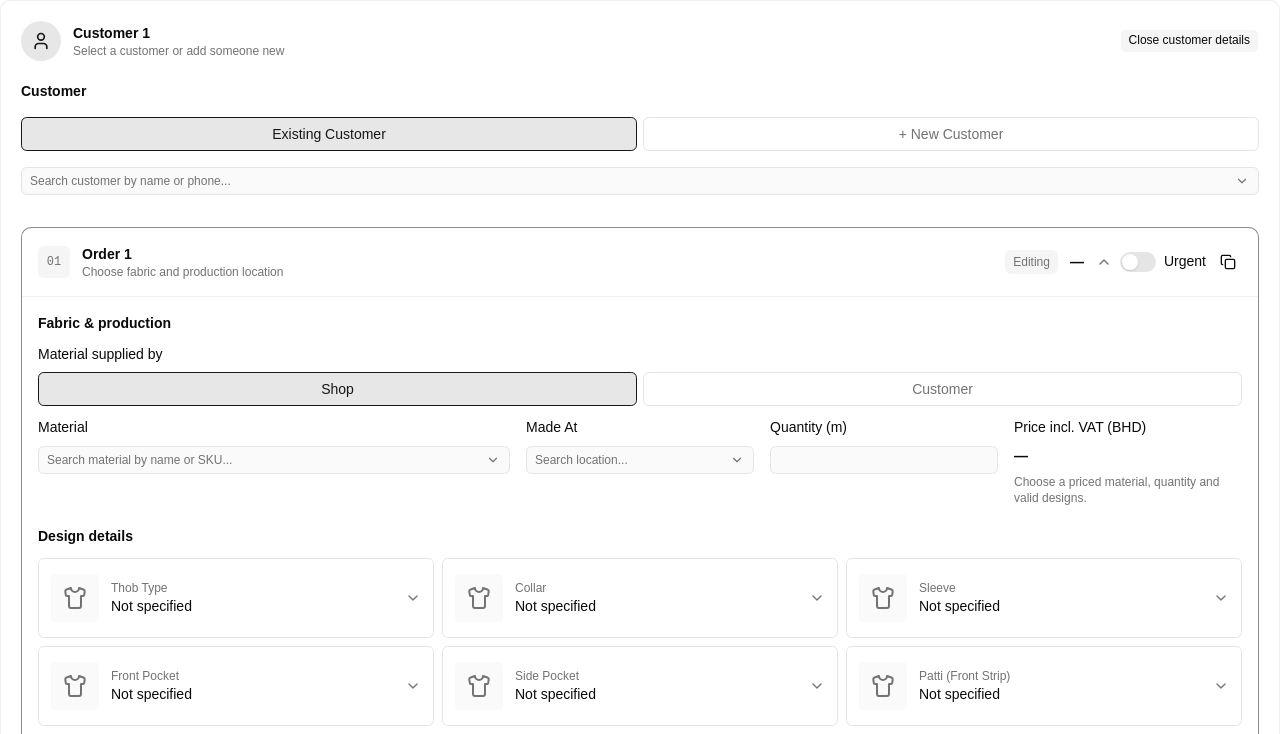
it: CustomerBlock › loads the selected existing customer's current measurement snapshot
The image size is (1280, 734).
Press the mouse on the dropdown with placeholder "Search customer by name or phone...": (626, 181) [22, 167, 1230, 195]
Press the mouse on the dropdown with placeholder "Search customer by name or phone...": (626, 181) [22, 167, 1230, 195]
Click the dropdown with placeholder "Search customer by name or phone...": (626, 181) [22, 167, 1230, 195]
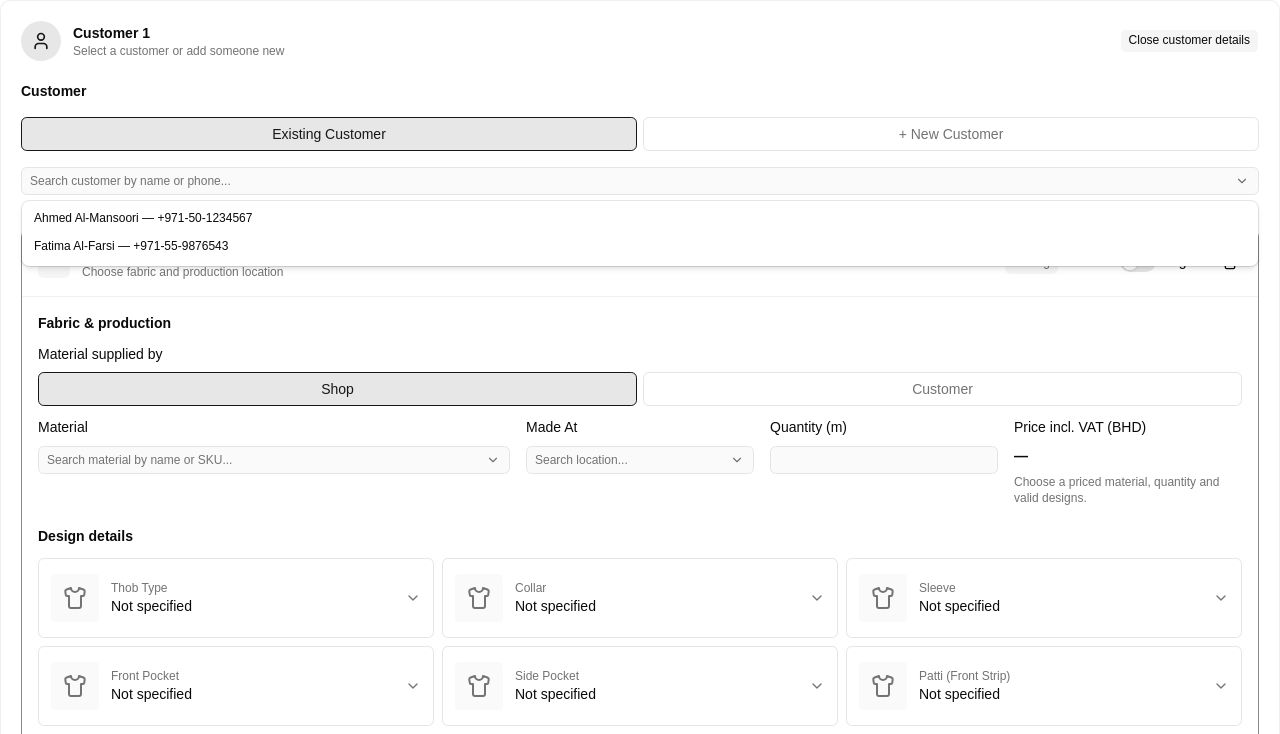
Click the option "Ahmed Al-Mansoori — +971-50-1234567": (143, 218) [34, 211, 252, 225]
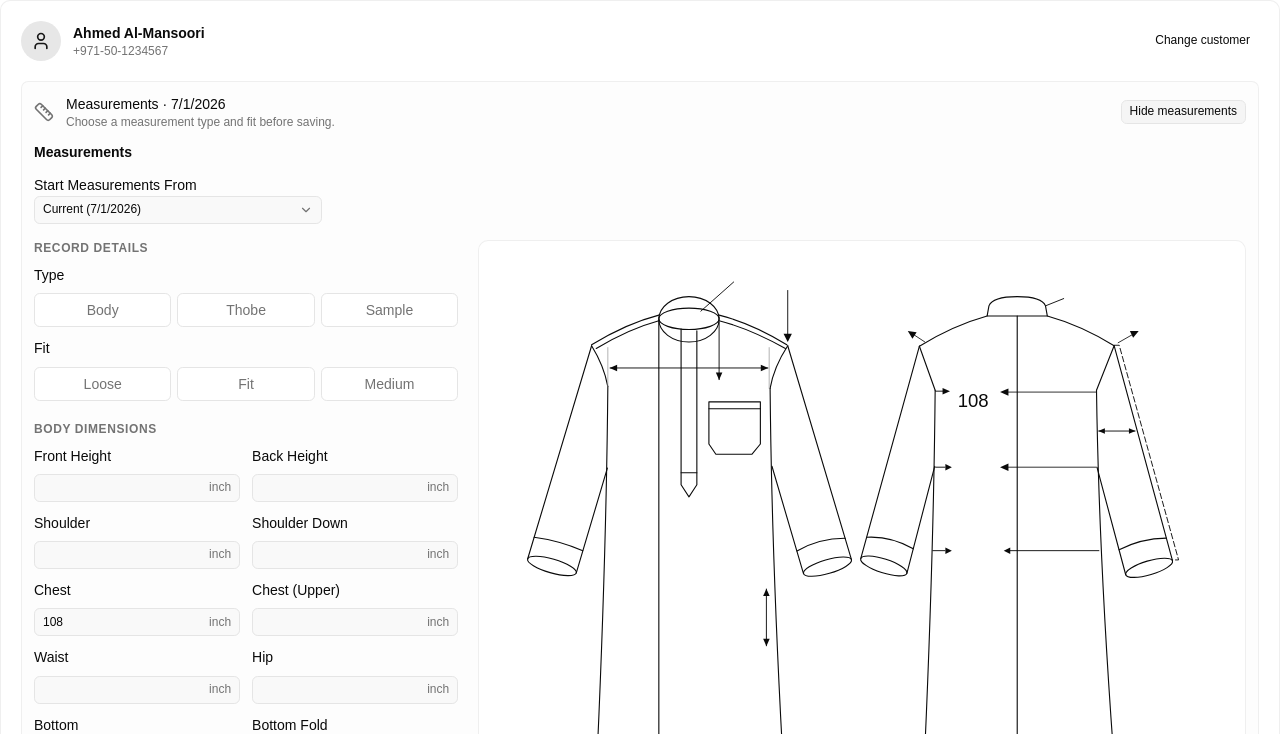
Expected: the field labelled "Chest" holds "108", [35, 608, 209, 636]
